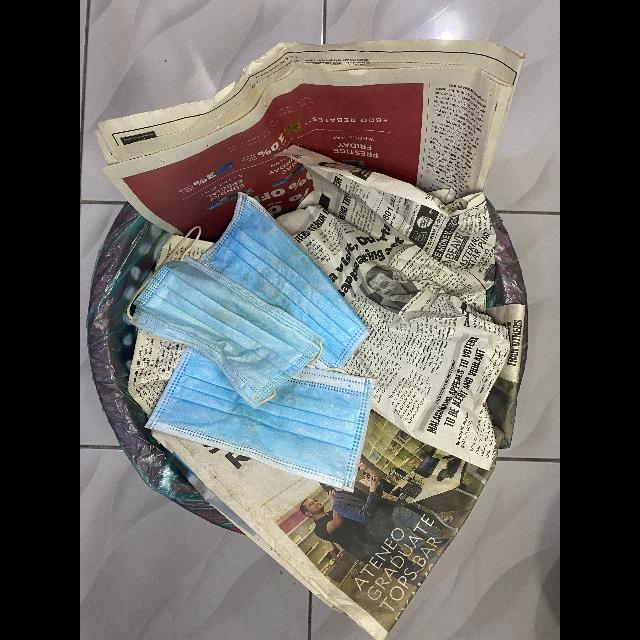paper: (96, 40, 525, 243), (152, 411, 491, 640), (273, 149, 510, 472), (128, 329, 187, 417), (154, 233, 194, 274), (188, 240, 214, 261)
